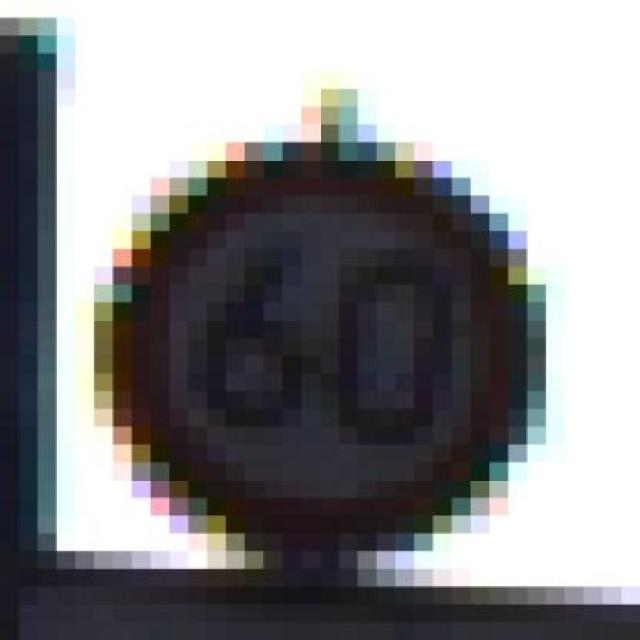forb_speed_over_60: (130, 152, 519, 541)
